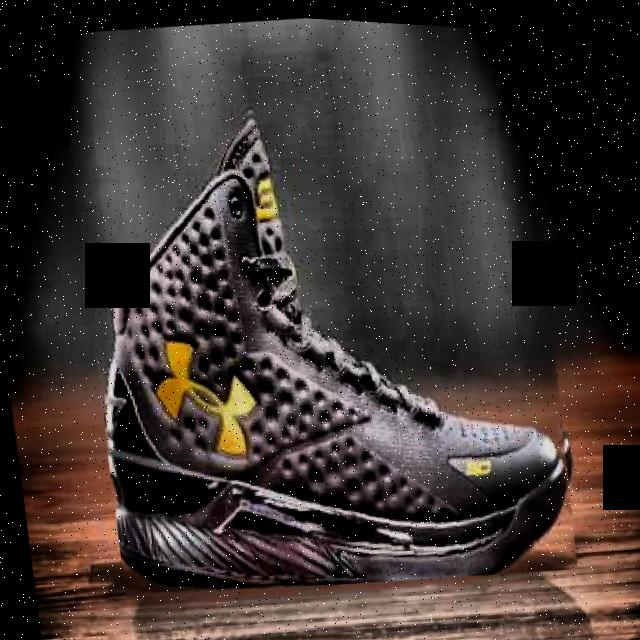shoe: (63, 58, 587, 617)
